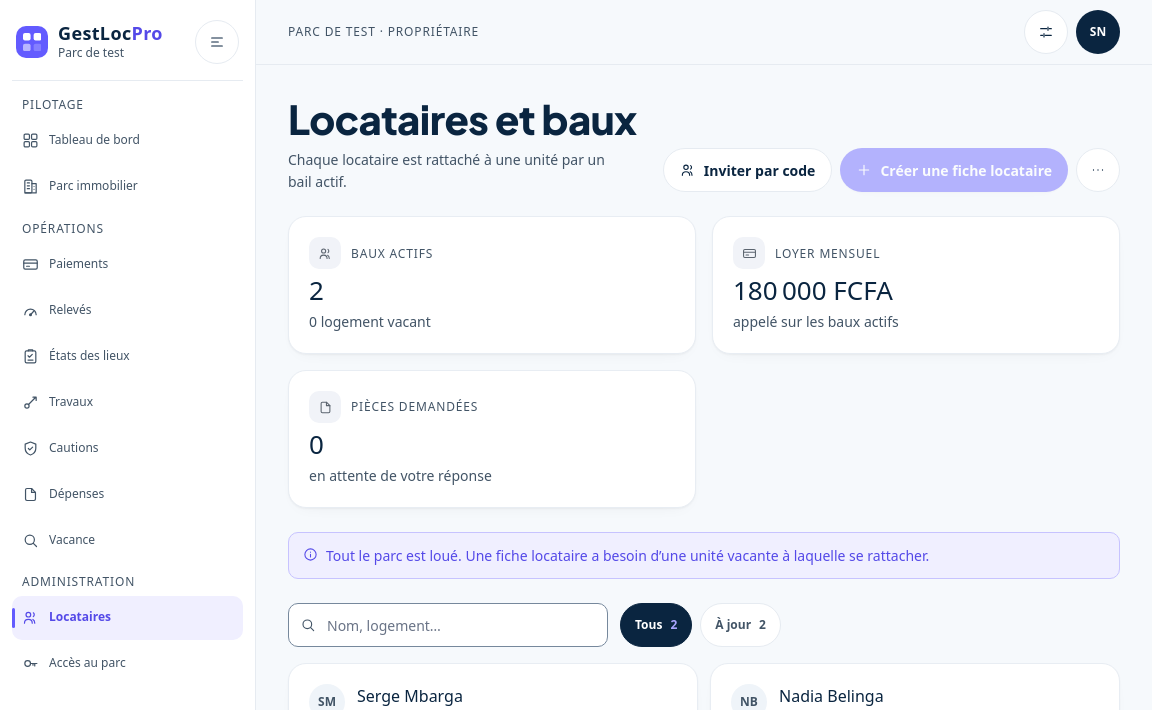
Test: prévenir les locataires › nomme ceux qui ne liront rien
The image size is (1152, 710).
Click the button named "Autres actions". click: (1098, 170)
box: [1076,148,1120,192]
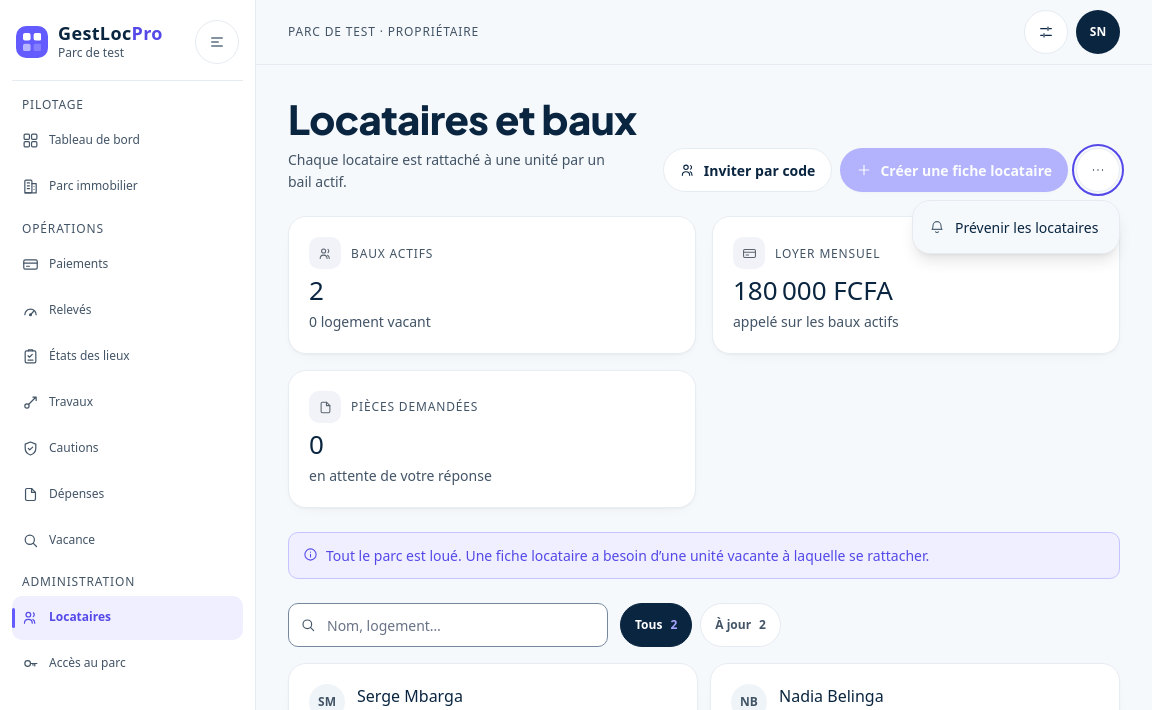
Click the menu item "Prévenir les locataires". click: (1016, 227)
box: [917,205,1115,249]
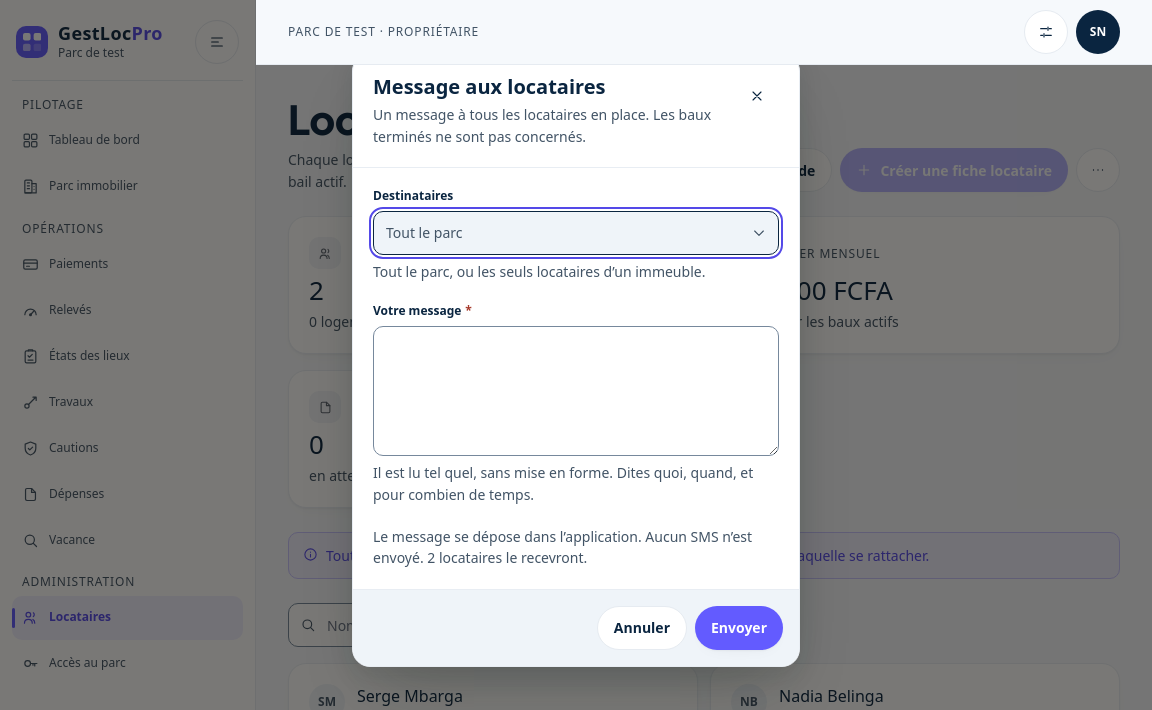
Type "Coupure d’eau jeudi." into the text box. click: (576, 391)
box: [373,326,779,456]
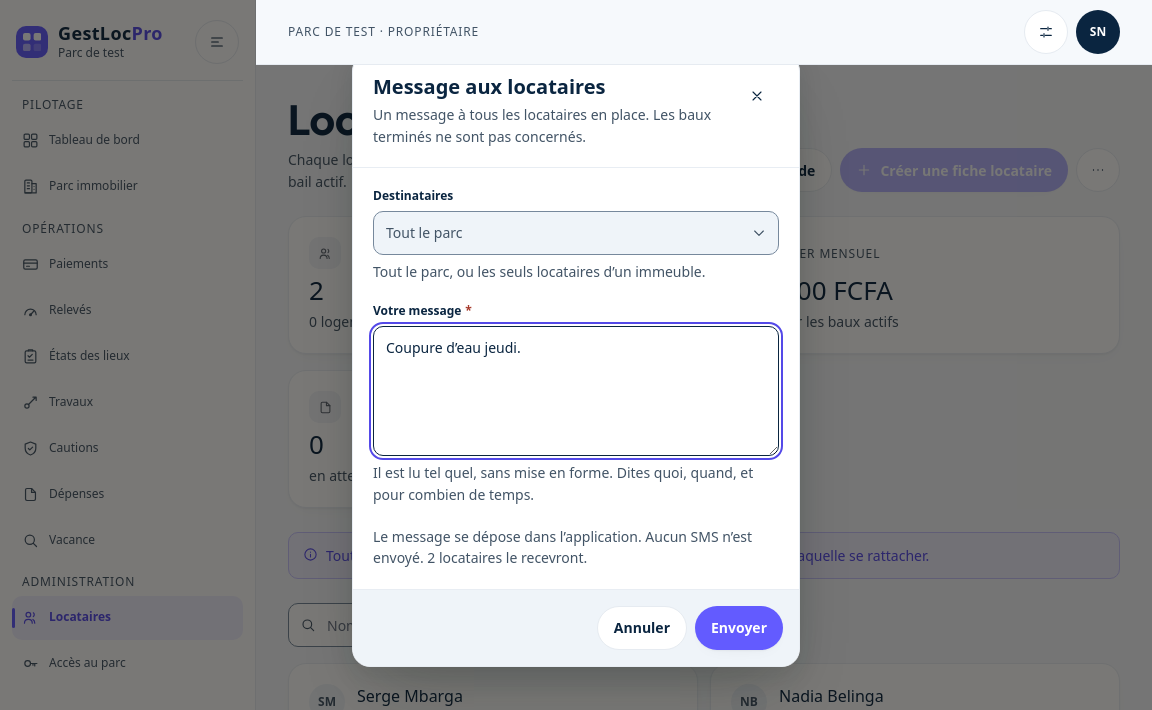
Click the button "Envoyer". click: (739, 628)
box: [695,606,783,650]
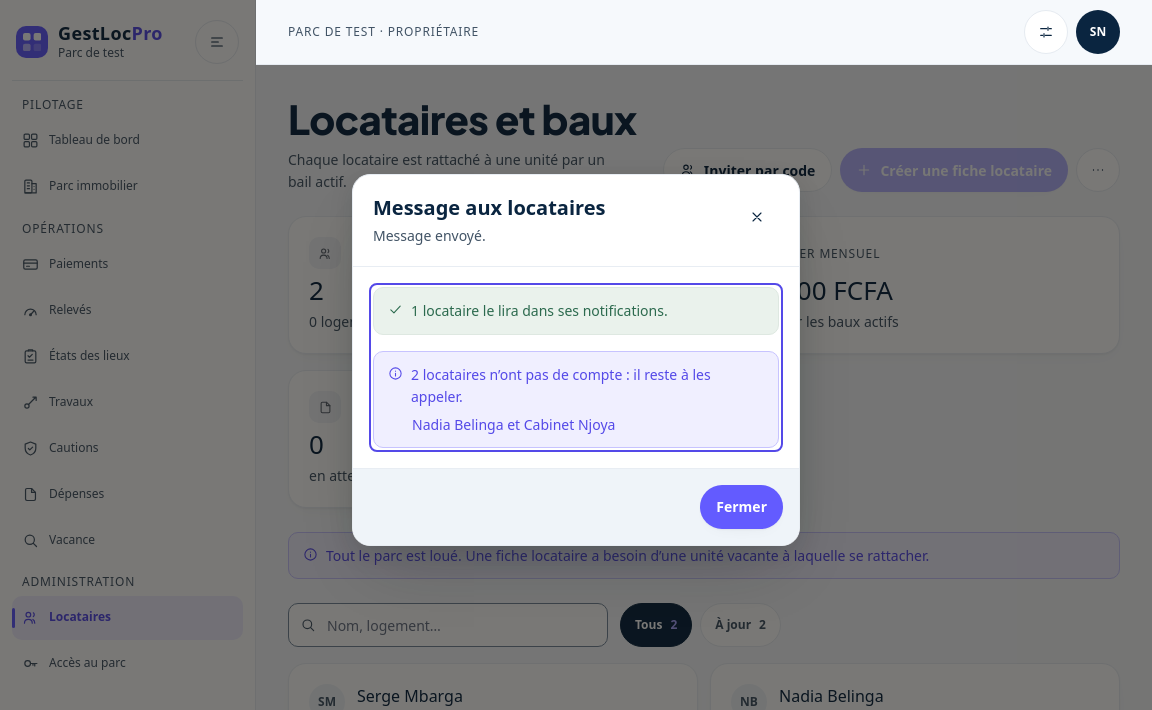
Expected: the text "2 locataires n’ont pas de compte : il reste à les appeler." is shown, [388,364,764,408]
Expected: the text "Nadia Belinga et Cabinet Njoya" is shown, [412,414,615,434]
